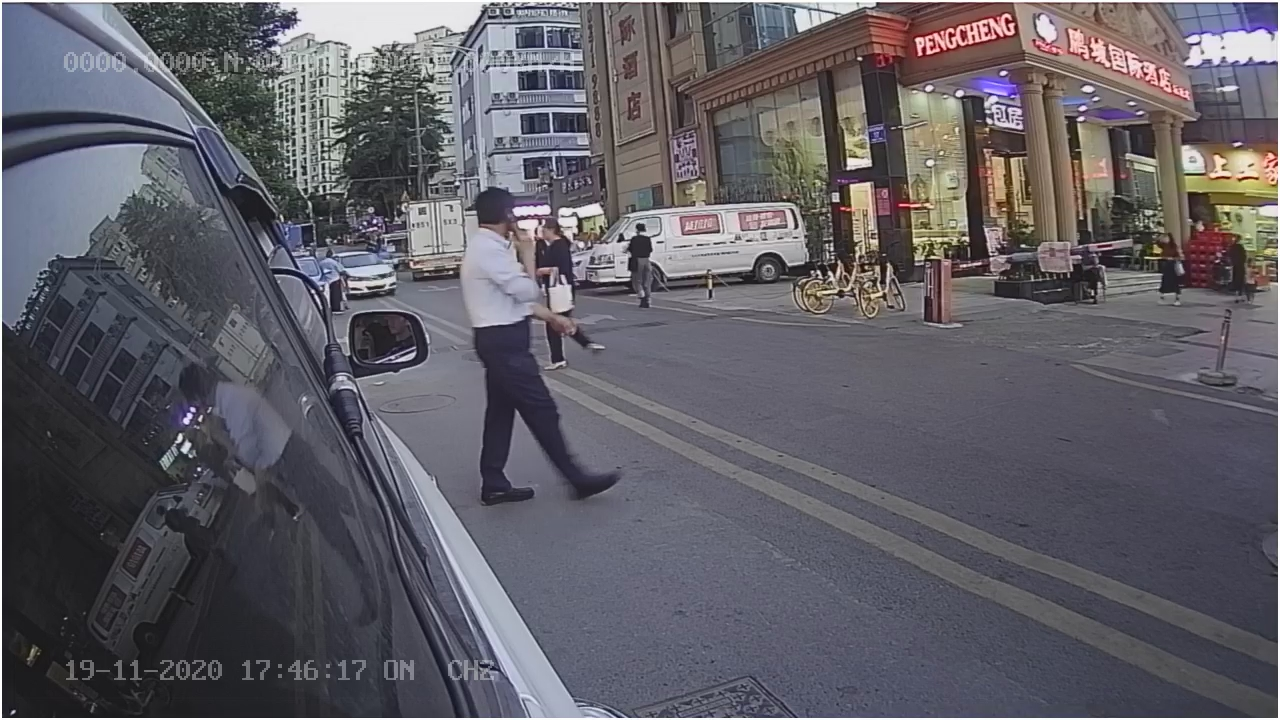person: (454, 184, 615, 508)
